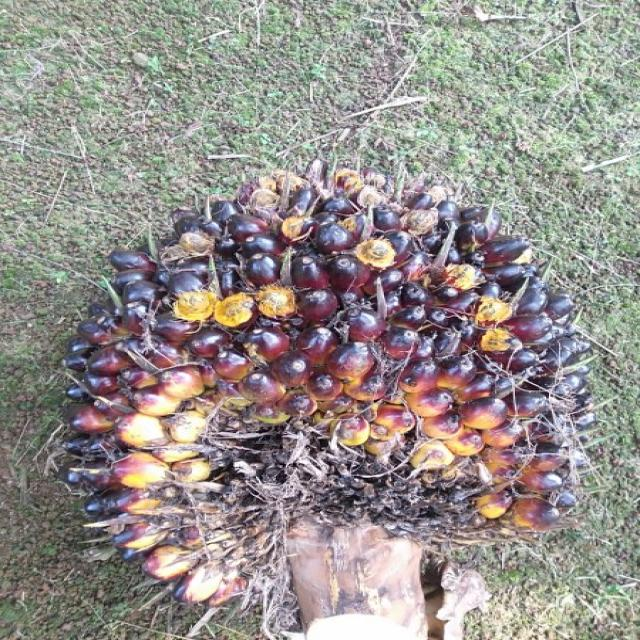fraksi 00: (25, 142, 618, 607)
